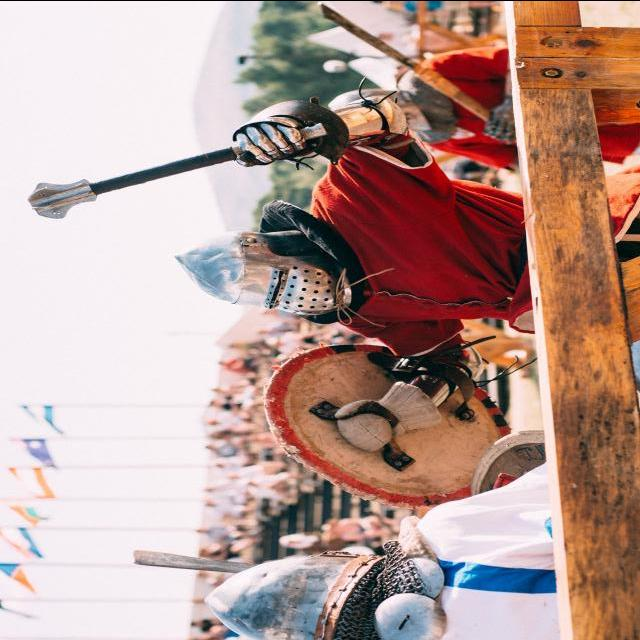mace: (27, 129, 324, 220)
shield: (263, 343, 511, 508)
